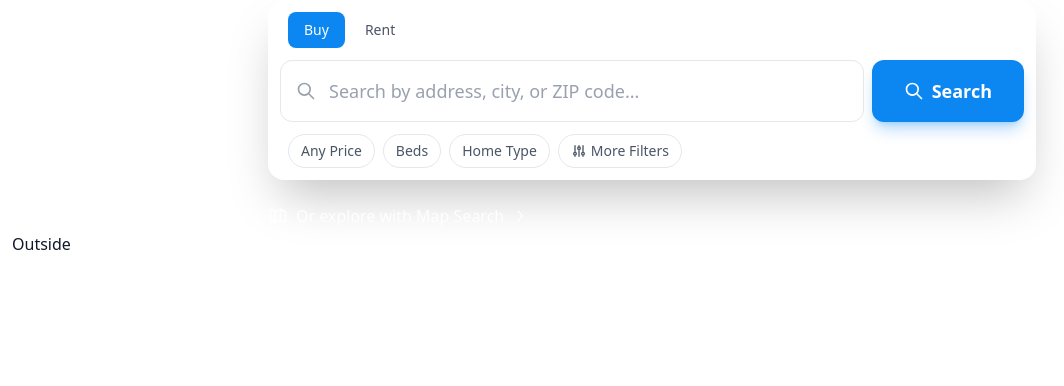
Test case: HeroSearch › autocomplete › closes dropdown when clicking outside
Type "Sarasota" into the field.
click(572, 91); type("Sarasota")  # box [280,60,864,122]
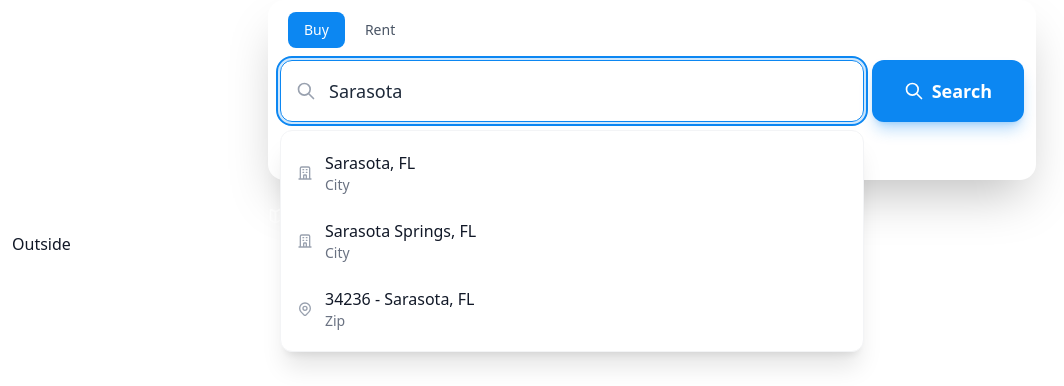
Expected: the text "Sarasota, FL" is shown, [325,152,415,174]
Press the mouse on the text with test id "outside" at [41, 244], box [12,233,71,255]
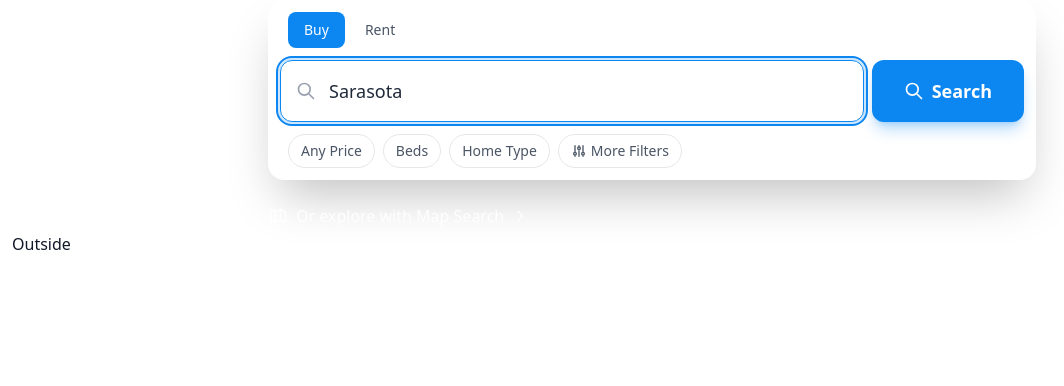
Expected: the button "Sarasota, FL" is gone
